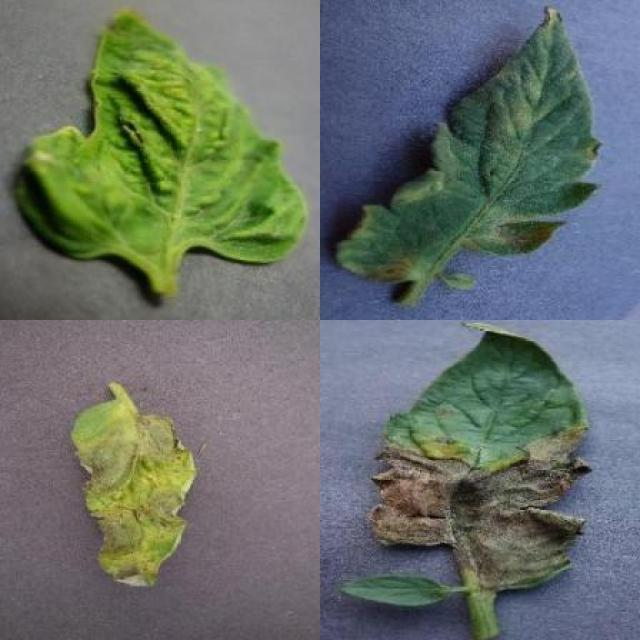Late Blight: (368, 320, 595, 590), (72, 400, 198, 587)
Leaf Mold: (337, 5, 602, 282)
Yellow Leaf Curl Virus: (13, 12, 310, 264)
